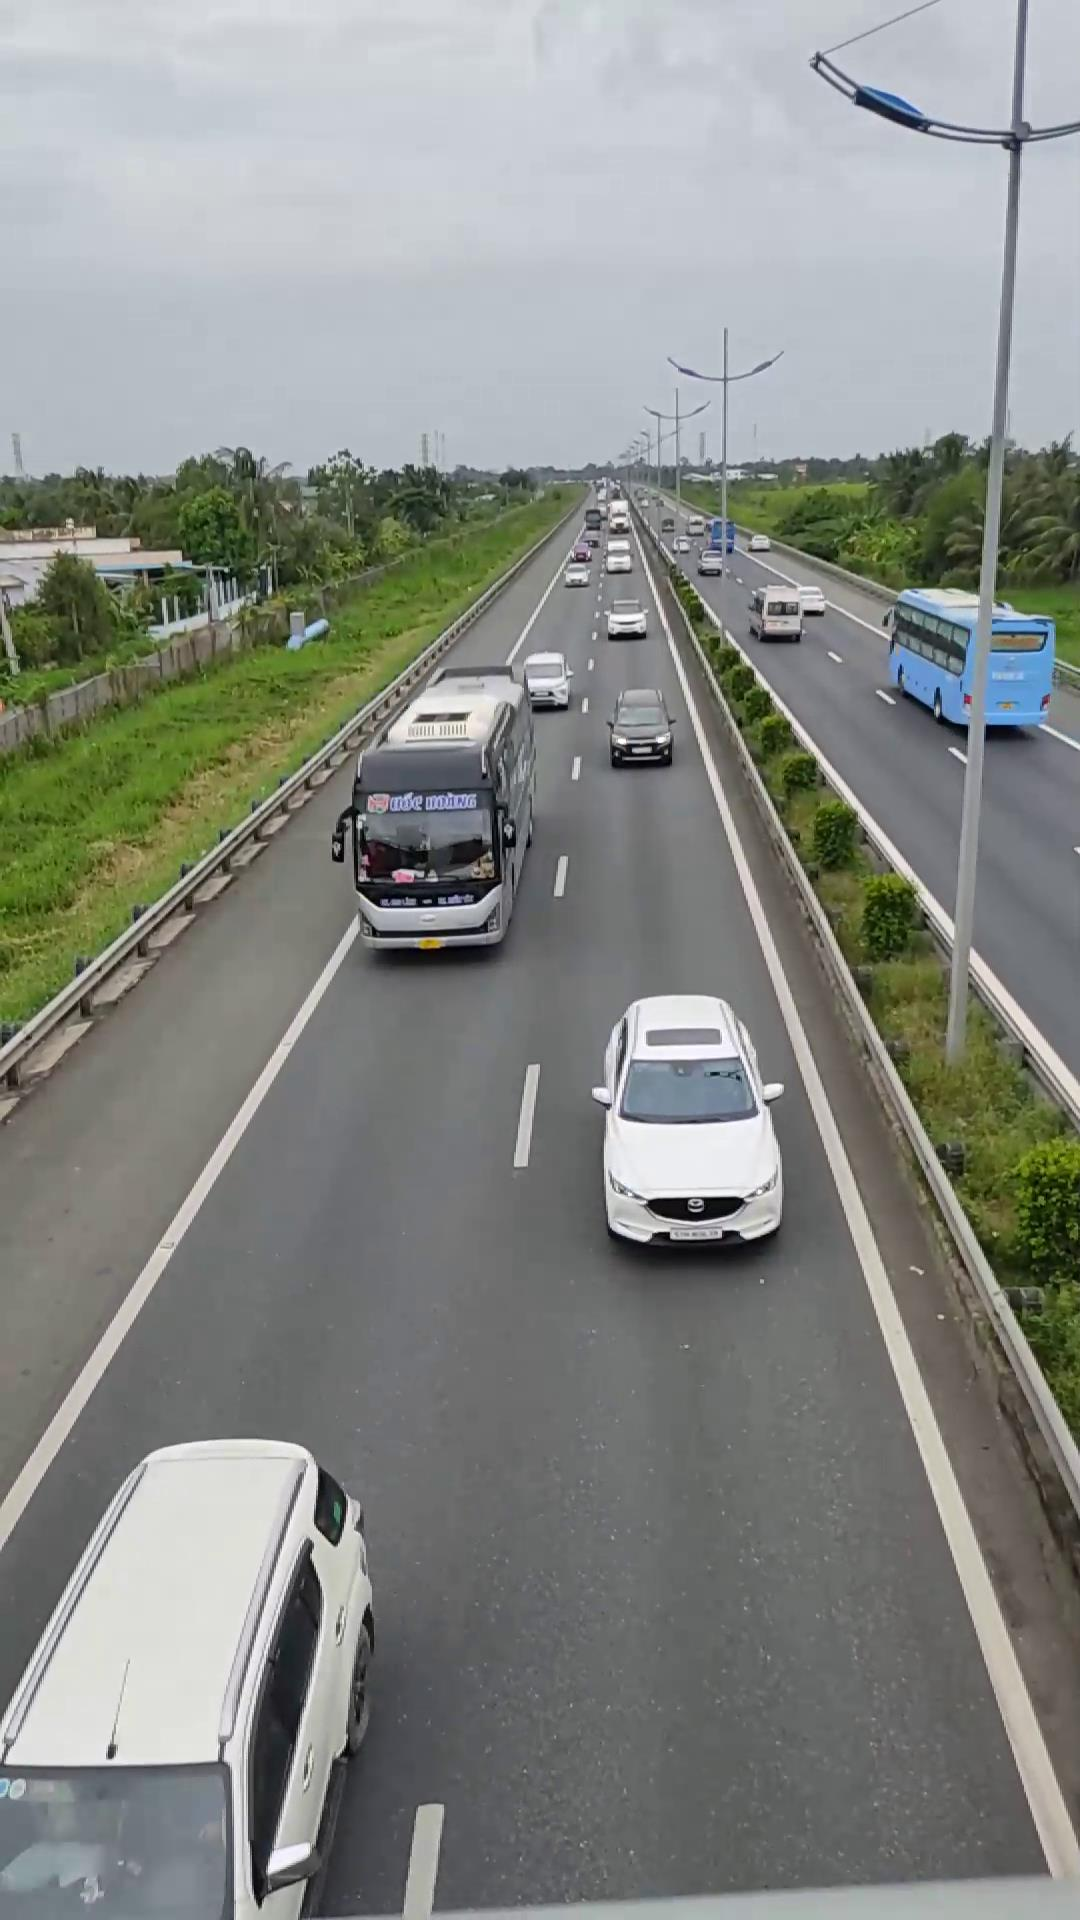bus: (338, 669, 539, 953)
car: (0, 1432, 378, 1917), (589, 993, 789, 1251), (605, 688, 676, 767)
